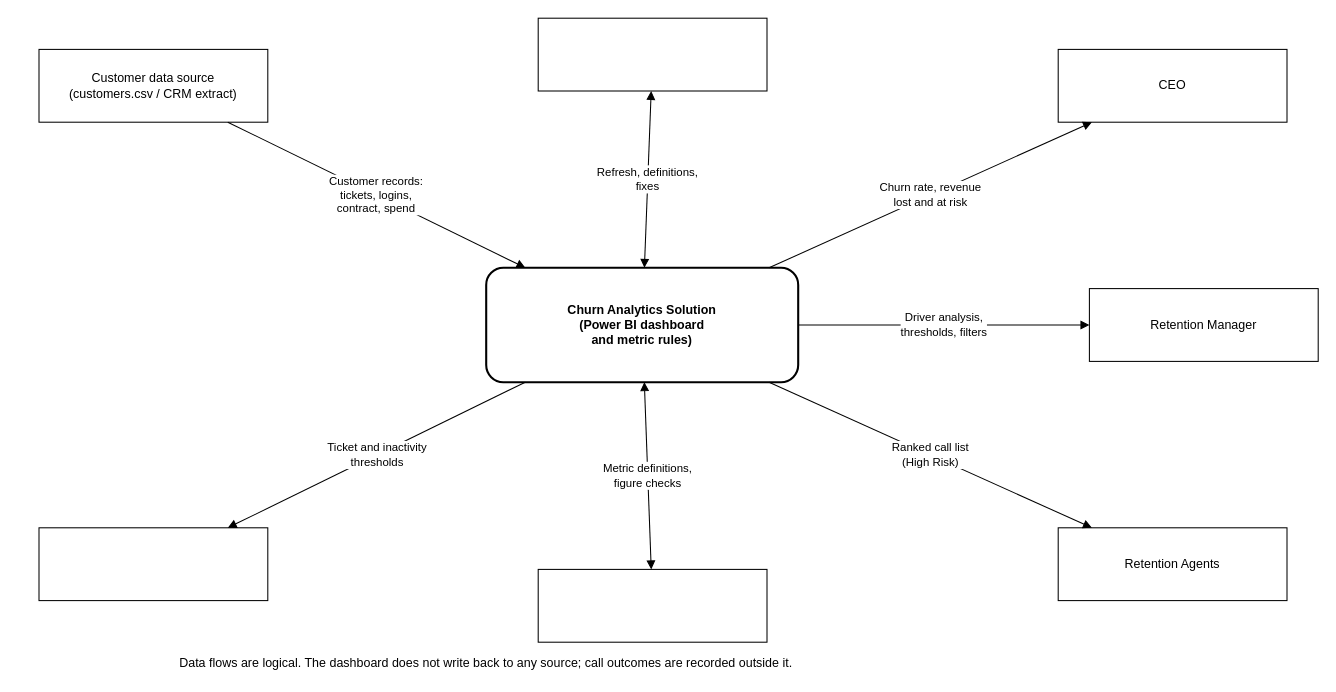
Some shapes in this 1336 by 692 pixel diagram are drawn without their labels. The centre of each missing label's shape, as x and y in pixels:
"BI / Data team" belongs at (652,54).
"Finance Analyst" belongs at (652,605).
"Support Lead and CRM Lead" belongs at (153,564).
